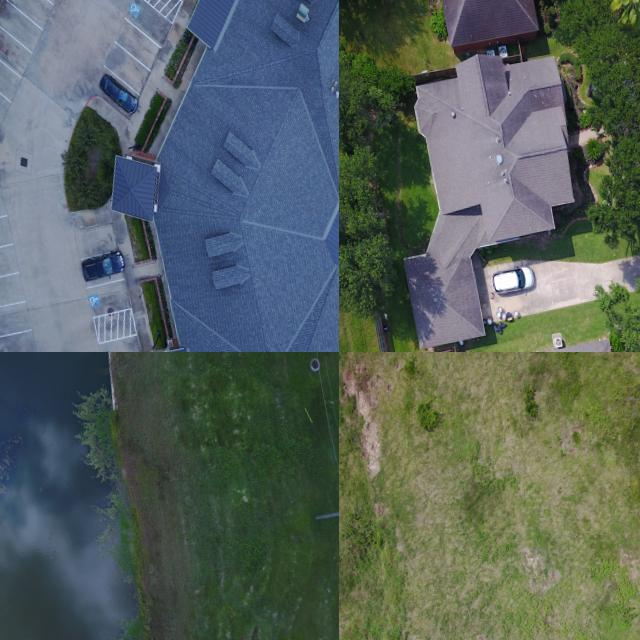fire: (0, 352, 135, 640)
